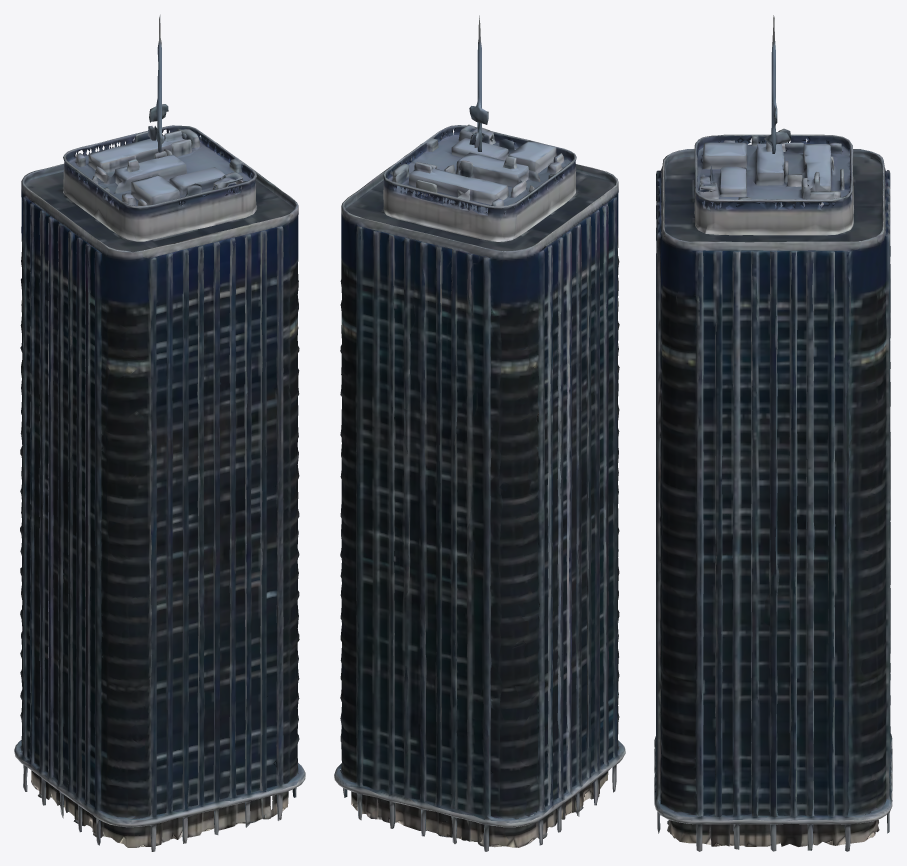
The model's file is city_tower_b.0.glb.
The picture shows the model from 3 angles, left to right: view 1: azimuth 30°, elevation 25°; view 2: azimuth 150°, elevation 25°; view 3: azimuth 270°, elevation 25°; orthographic projection.
Parts seen in each view (by area): view 1: geometry_0; view 2: geometry_0; view 3: geometry_0.
Part boxes in pixels (x1,y1,x2,y2): geometry_0: (14, 14, 305, 851); geometry_0: (334, 15, 625, 851); geometry_0: (654, 15, 892, 851).
Bounding box in the file's own units: 0.2708 × 0.9884 × 0.2707.
1 material, 1 textured.
